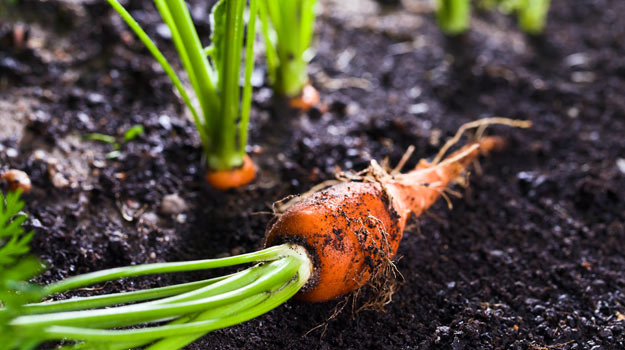carrot: (19, 137, 594, 343)
